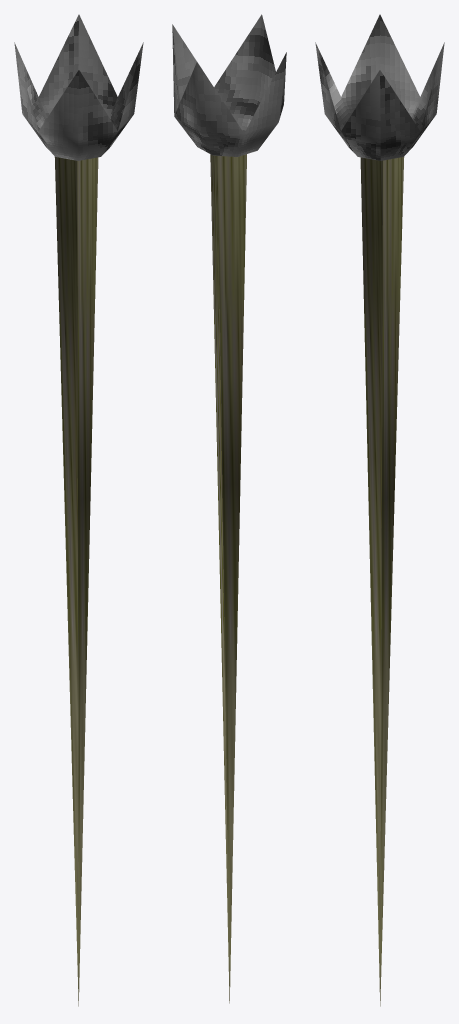
Rendered from torch02.obj.
The picture shows the model from 3 angles, left to right: view 1: azimuth 90°, elevation 25°; view 2: azimuth 150°, elevation 25°; view 3: azimuth 270°, elevation 25°; orthographic projection.
Parts seen in each view (by area): view 1: Box01, Sphere04; view 2: Box01, Sphere04; view 3: Box01, Sphere04.
Boxes of the visible parts, <box> form: Box01: <box>54,156,98,1006</box>; Sphere04: <box>14,14,143,160</box>; Box01: <box>210,154,246,1003</box>; Sphere04: <box>172,14,286,156</box>; Box01: <box>360,156,404,1006</box>; Sphere04: <box>315,14,444,160</box>.
Size of the model in its own units: 13.75 by 112 by 13.51.
